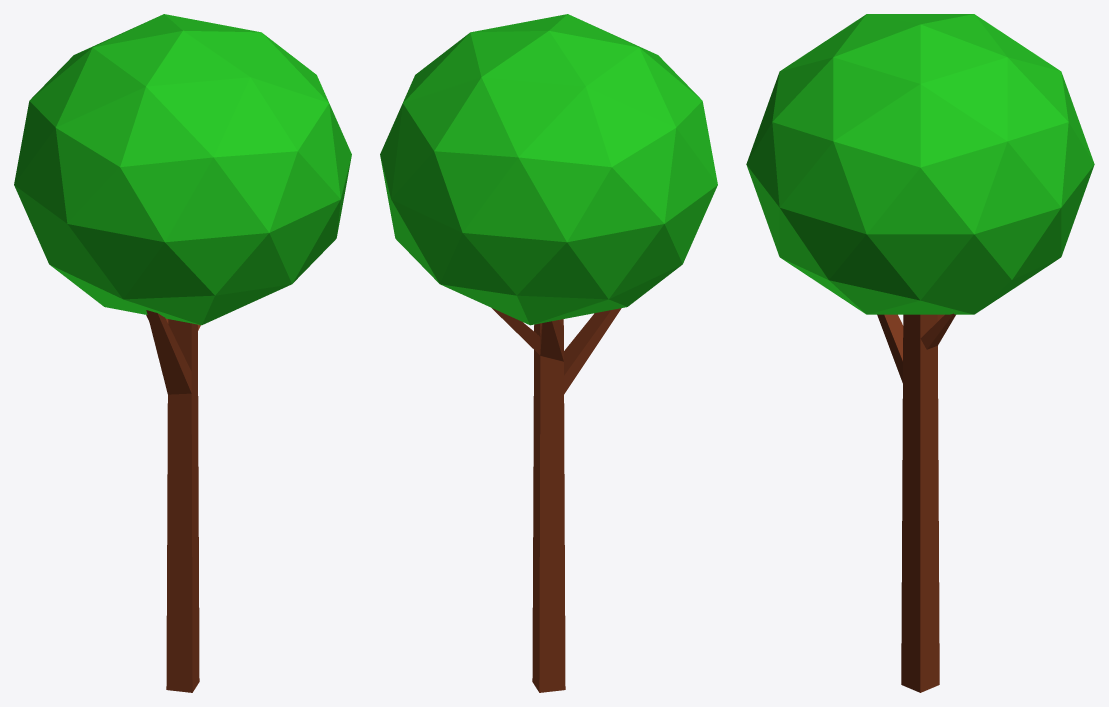
The model's file is Tree3.fbx.
3 renders of one model, left to right at view 1: azimuth 30°, elevation 25°; view 2: azimuth 150°, elevation 25°; view 3: azimuth 270°, elevation 25°, orthographic.
Visible parts, largest first — view 1: tree 2; view 2: tree 2; view 3: tree 2.
Part boxes in pixels (<box>): tree 2: <box>14,14,351,692</box>; tree 2: <box>380,14,717,692</box>; tree 2: <box>746,14,1094,692</box>.
Bounding box in the file's own units: 300 × 659 × 315.
